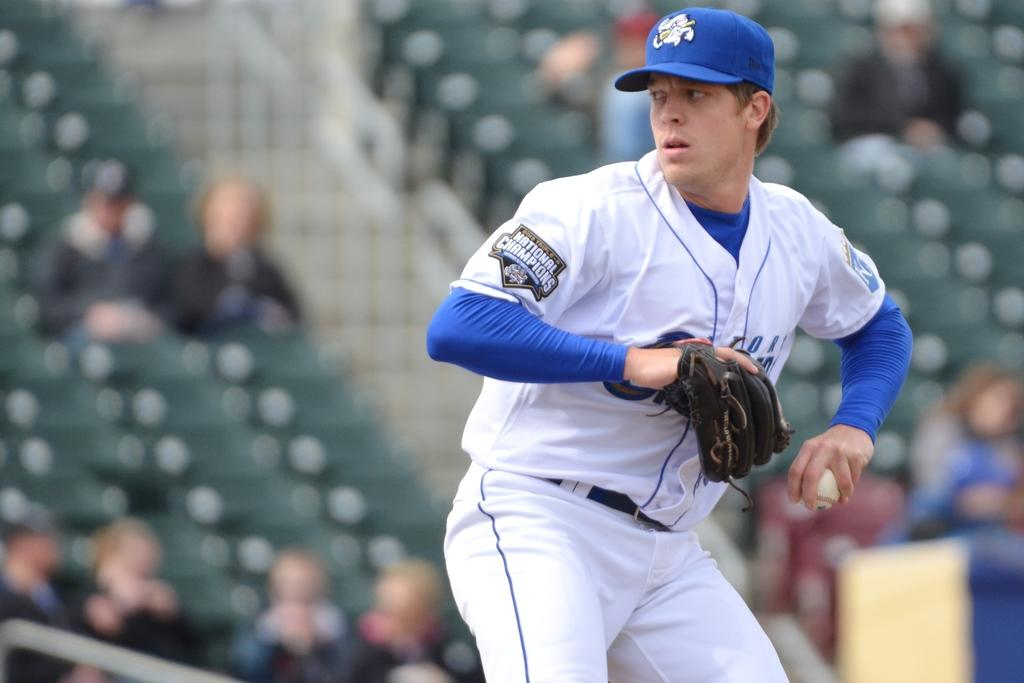Hat: (614, 6, 770, 94)
